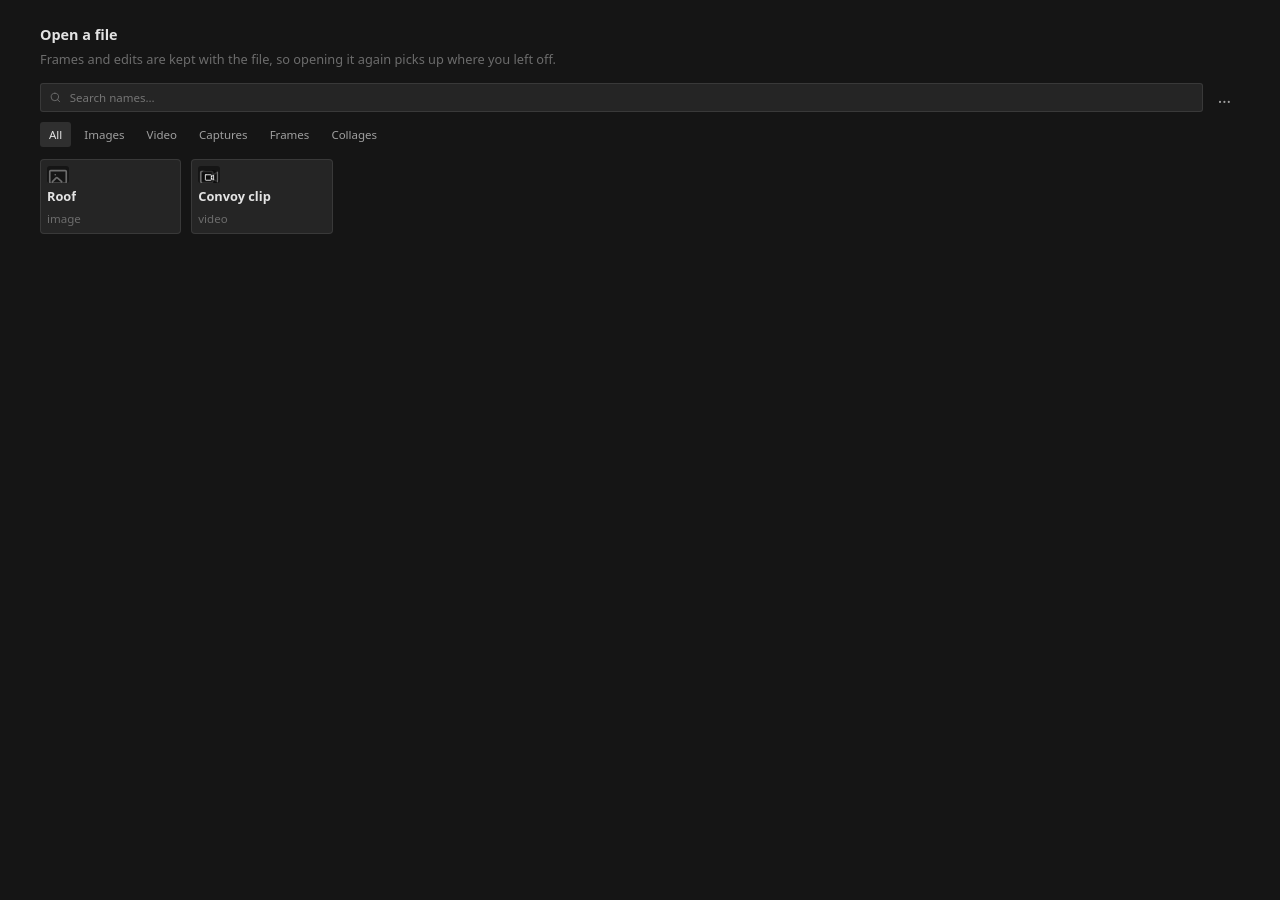
renaming the file › leaves the name as it was on Escape
Click the button "Roof image" at (111, 197), box [40,159,181,234]
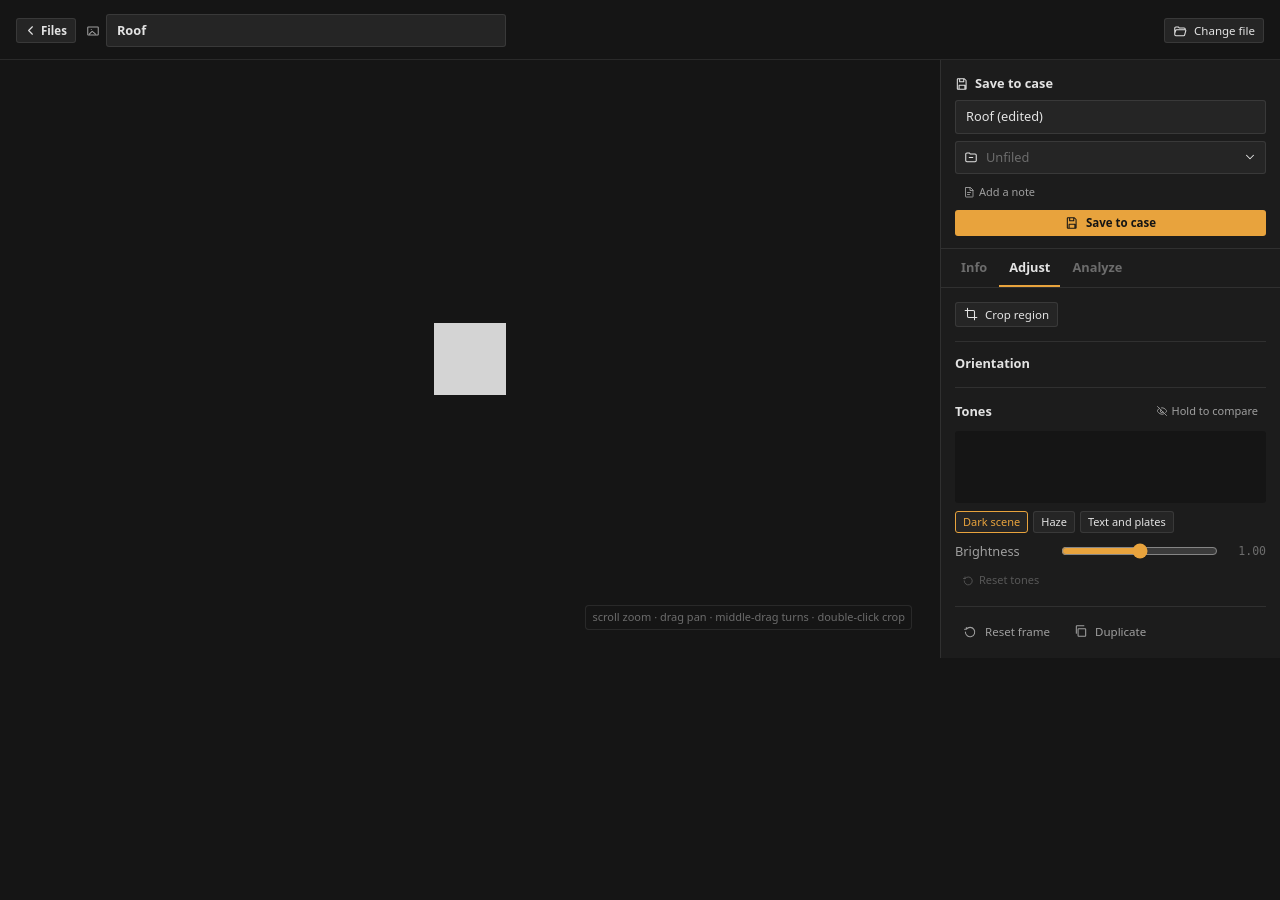
Replace the text in the field named "File name" with "Something else" at (306, 31), box [106,14,506,47]
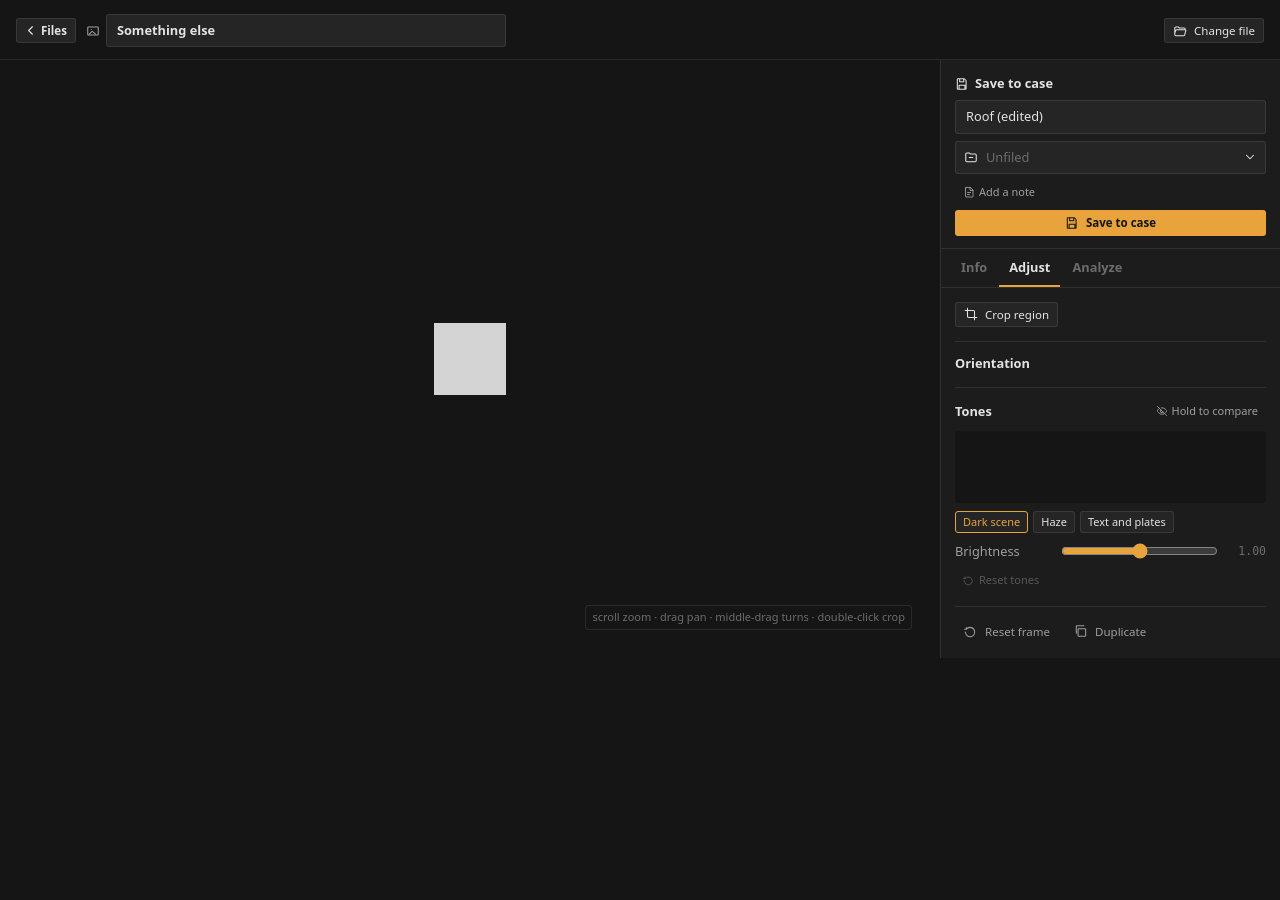
Press Escape in the field named "File name", box [106,14,506,47]
Leave the field named "File name", box [106,14,506,47]
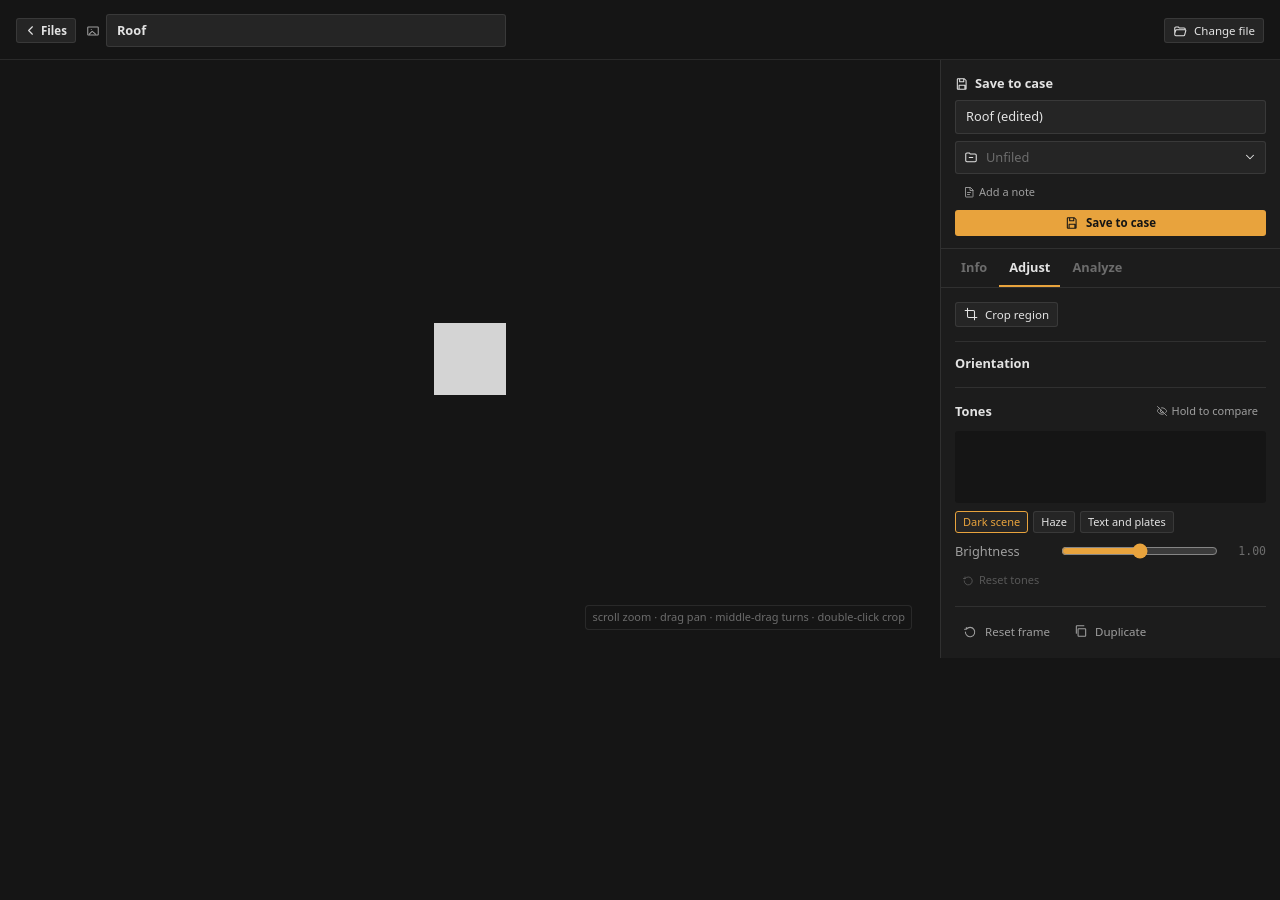
expect the field named "File name" holds "Roof": met, box [106,14,506,47]
